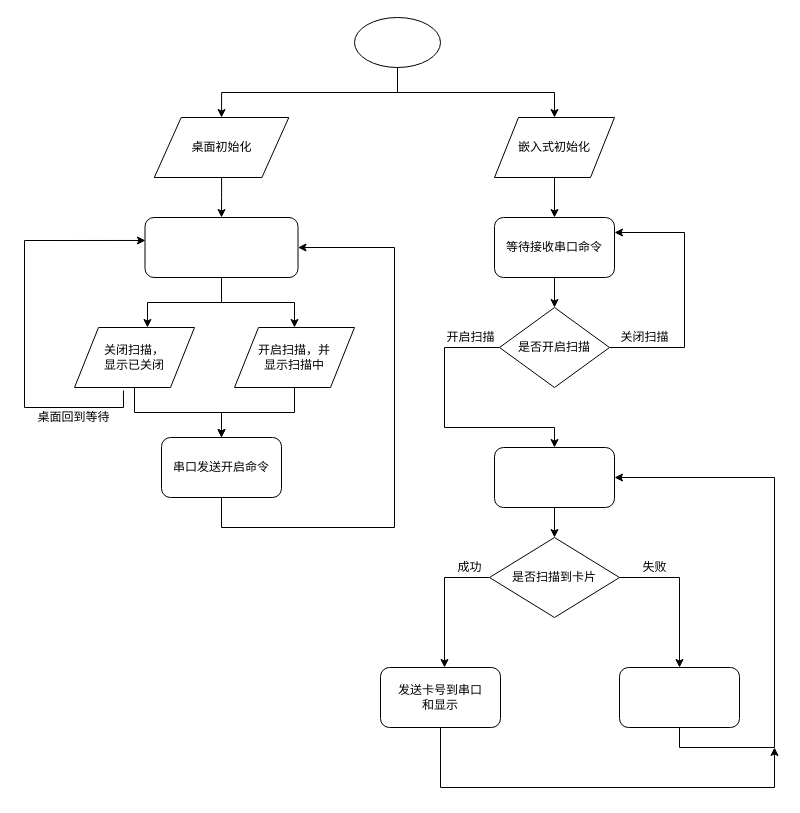
Some shapes in this 800 by 813 pixel diagram are drawn without their labels. Each missing label, with the centre of its shape:
"发送失败信息到 串口" belongs at (679,697).
"开始" belongs at (397,42).
"开始扫描" belongs at (554,477).
"桌面等待操作（是否开启RC522模块扫描）" belongs at (221,247).
